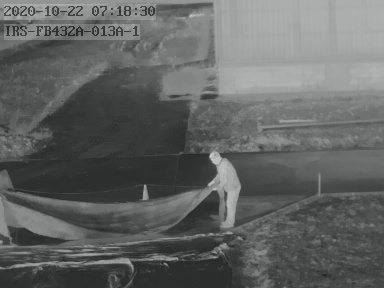person: (208, 150, 238, 226)
